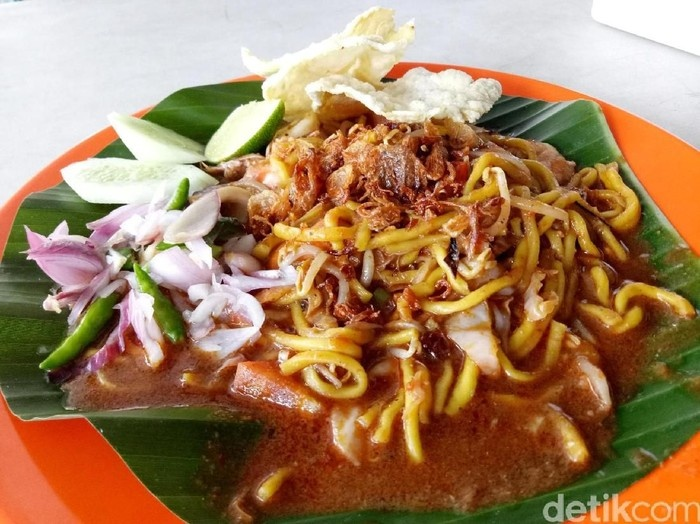mie_aceh: (245, 124, 688, 507)
